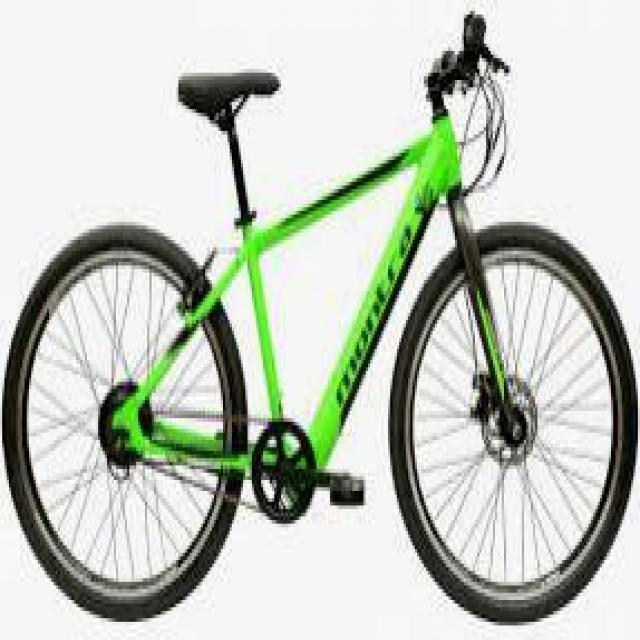bicycle: (12, 45, 619, 613)
